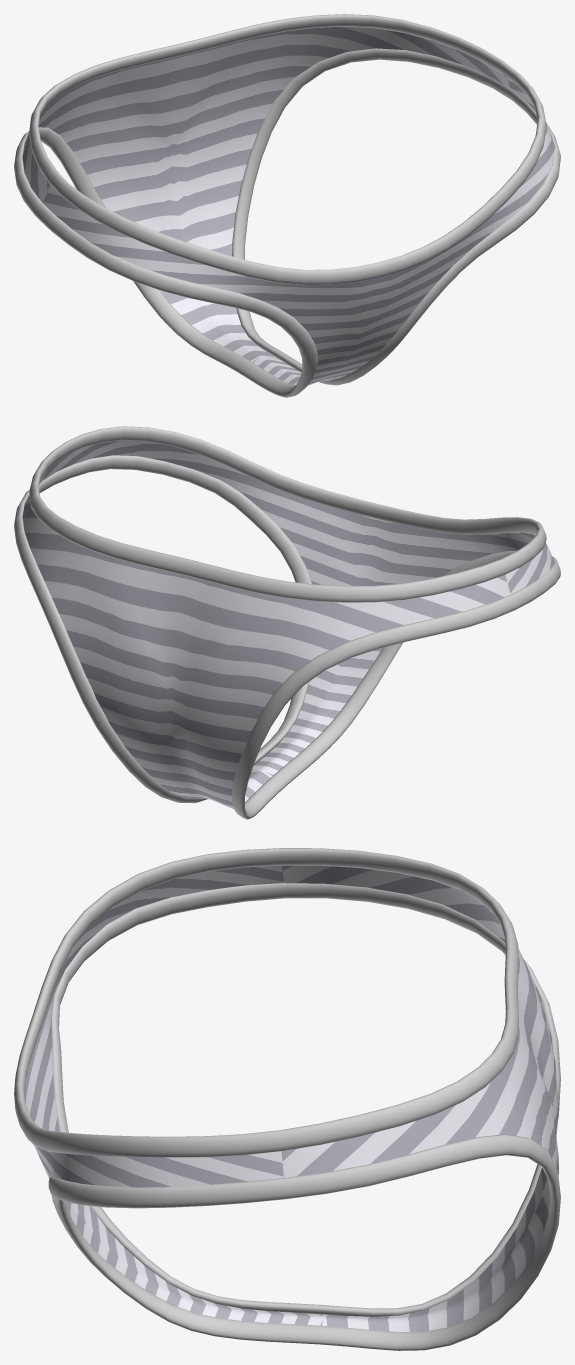
The model's file is clothes004.obj.
3 renders of one model, top to bottom at view 1: azimuth 30°, elevation 25°; view 2: azimuth 150°, elevation 25°; view 3: azimuth 270°, elevation 25°, orthographic. The views are drawn at different scales.
Visible parts, largest first — view 1: 0200shorts_striped_Cylinder.003; view 2: 0200shorts_striped_Cylinder.003; view 3: 0200shorts_striped_Cylinder.003.
Part boxes in pixels (x1=…): 0200shorts_striped_Cylinder.003: x1=14, y1=14, x2=560, y2=397; 0200shorts_striped_Cylinder.003: x1=14, y1=426, x2=560, y2=819; 0200shorts_striped_Cylinder.003: x1=14, y1=848, x2=560, y2=1350.
Bounding box in the file's own units: 1.94 × 1.06 × 1.47.
